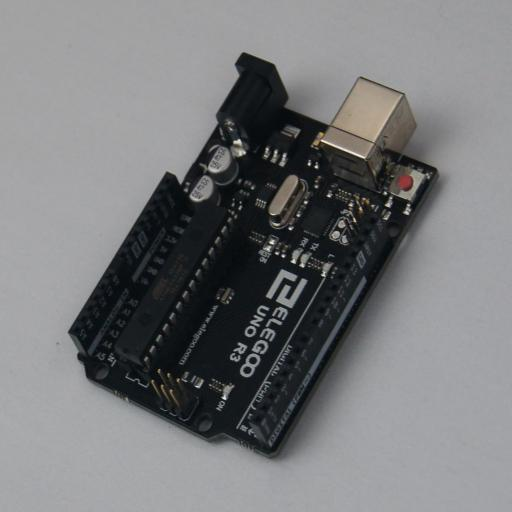Arduino Uno -Black-: (68, 52, 441, 459)
